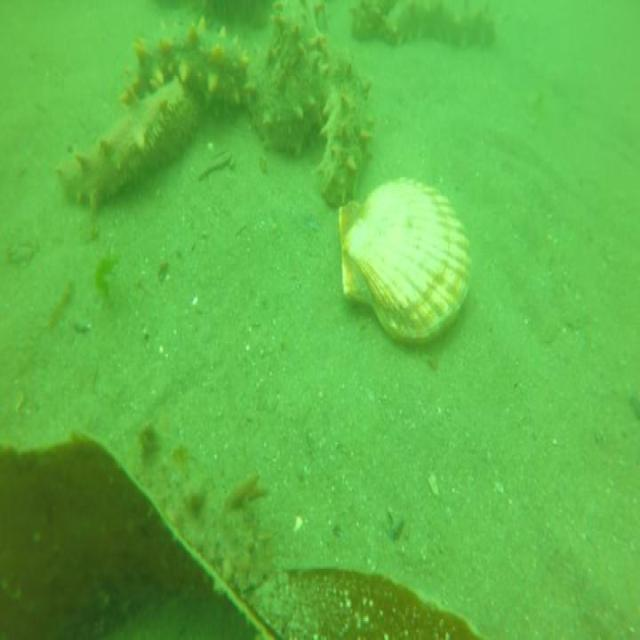holothurian: (59, 78, 199, 220), (120, 22, 252, 122), (252, 0, 330, 153), (310, 38, 376, 212), (350, 0, 500, 60)
scallop: (339, 168, 473, 356)
